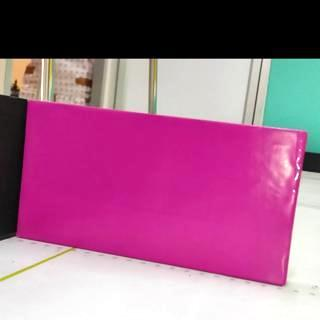xparking: (16, 99, 304, 285)
